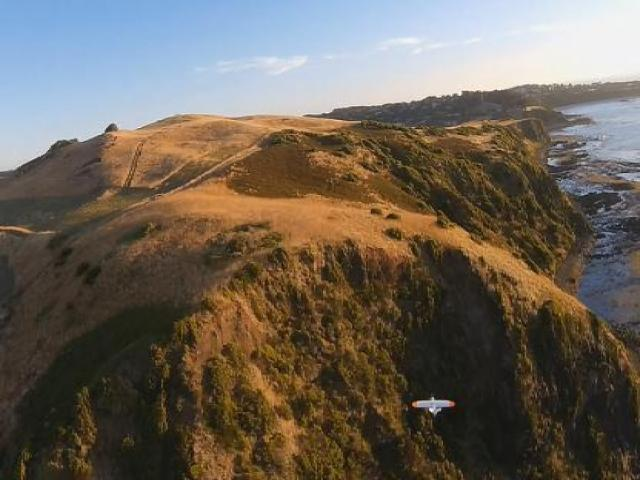uav: (408, 395, 458, 418)
